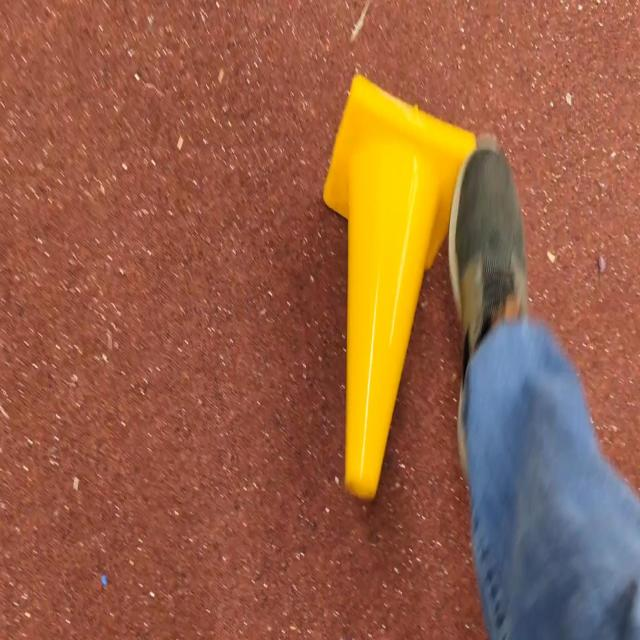frc_cone: (323, 76, 477, 505)
